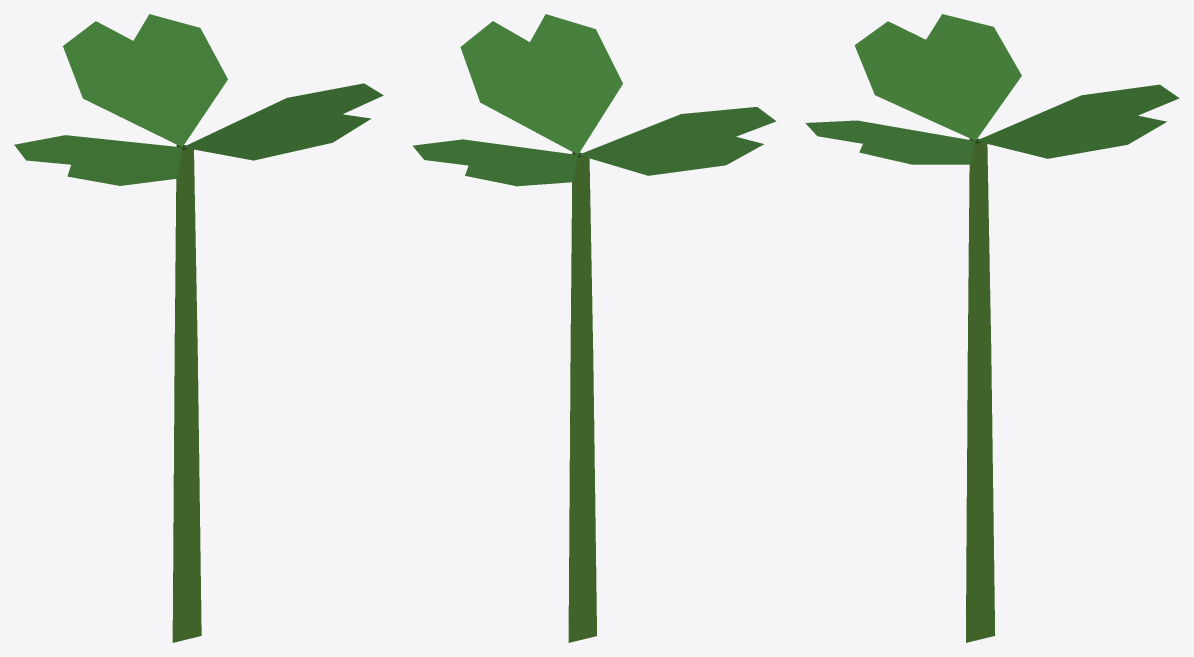
The model's file is clover.fbx.
The picture shows the model from 3 angles, left to right: view 1: azimuth 30°, elevation 25°; view 2: azimuth 150°, elevation 25°; view 3: azimuth 270°, elevation 25°; orthographic projection. The views are drawn at different scales.
Parts seen in each view (by area): view 1: clover; view 2: clover; view 3: clover.
Part boxes in pixels (<box>): clover: <box>14,14,383,642</box>; clover: <box>413,14,776,642</box>; clover: <box>805,14,1179,642</box>.
Size of the model in its own units: 24.25 by 39.22 by 24.01.
